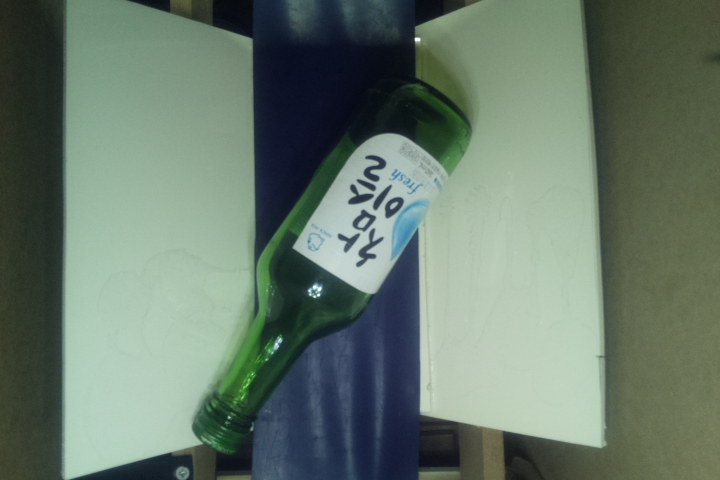soju: (188, 72, 472, 460)
